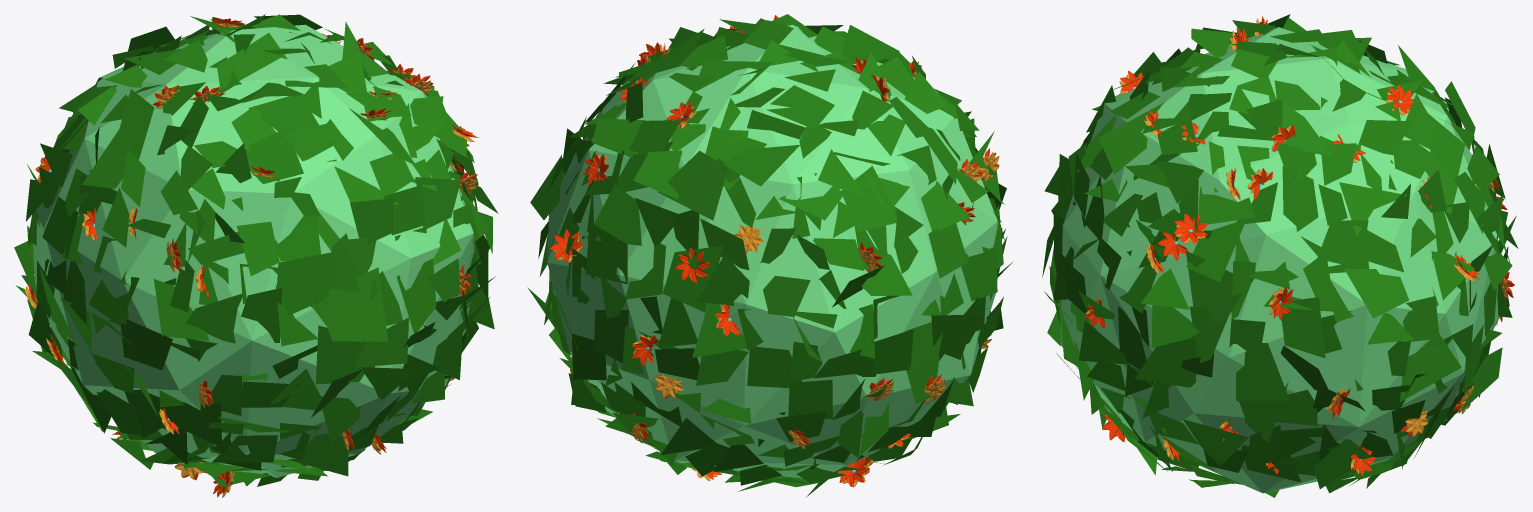
Rendered from Bush.fbx.
3 renders of one model, left to right at view 1: azimuth 30°, elevation 25°; view 2: azimuth 150°, elevation 25°; view 3: azimuth 270°, elevation 25°, orthographic.
Visible parts, largest first — view 1: Cube; view 2: Cube, Cube|Cube.003|Dupli|1, Cube|Cube.003|Dupli|24, Cube|Cube.003|Dupli|14; view 3: Cube, Cube|Cube.003|Dupli|37, Cube|Cube.003|Dupli|10.
Part boxes in pixels (x1,y1,x2,y2): Cube: [14, 14, 498, 486]; Cube: [527, 14, 1012, 497]; Cube|Cube.003|Dupli|1: [549, 229, 583, 262]; Cube|Cube.003|Dupli|24: [675, 248, 710, 283]; Cube|Cube.003|Dupli|14: [837, 457, 869, 487]; Cube: [1042, 14, 1518, 497]; Cube|Cube.003|Dupli|37: [1173, 213, 1207, 244]; Cube|Cube.003|Dupli|10: [1385, 84, 1413, 115].
Bounding box in the file's own units: 1.79 × 1.82 × 1.81.
